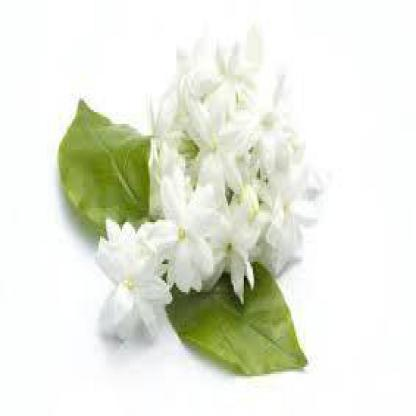Melati: (84, 20, 341, 345)
